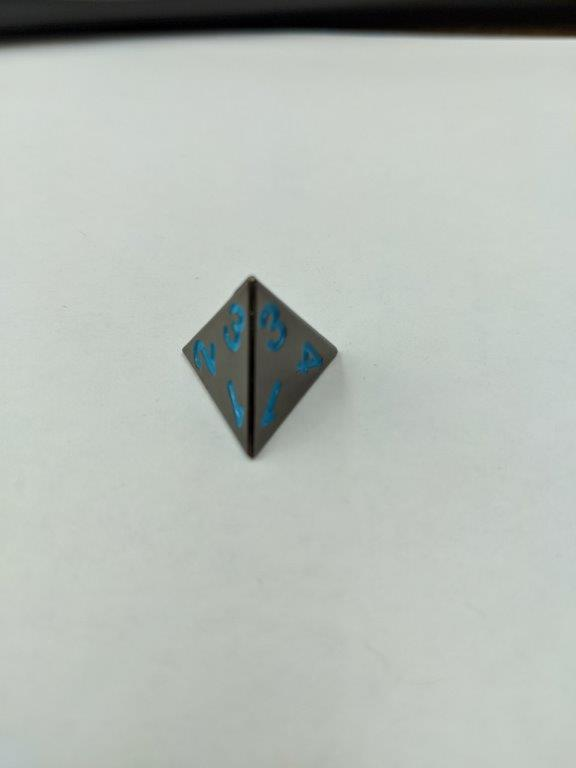d4-3: (177, 271, 342, 461)
